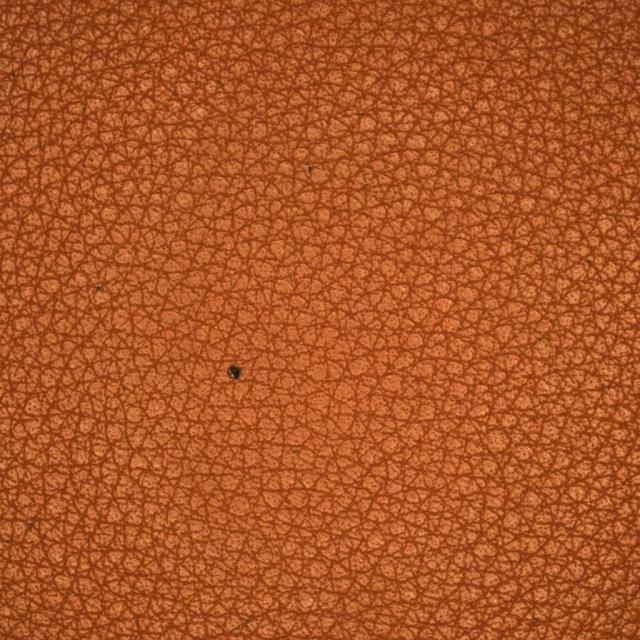Hole: (175, 302, 300, 436)
